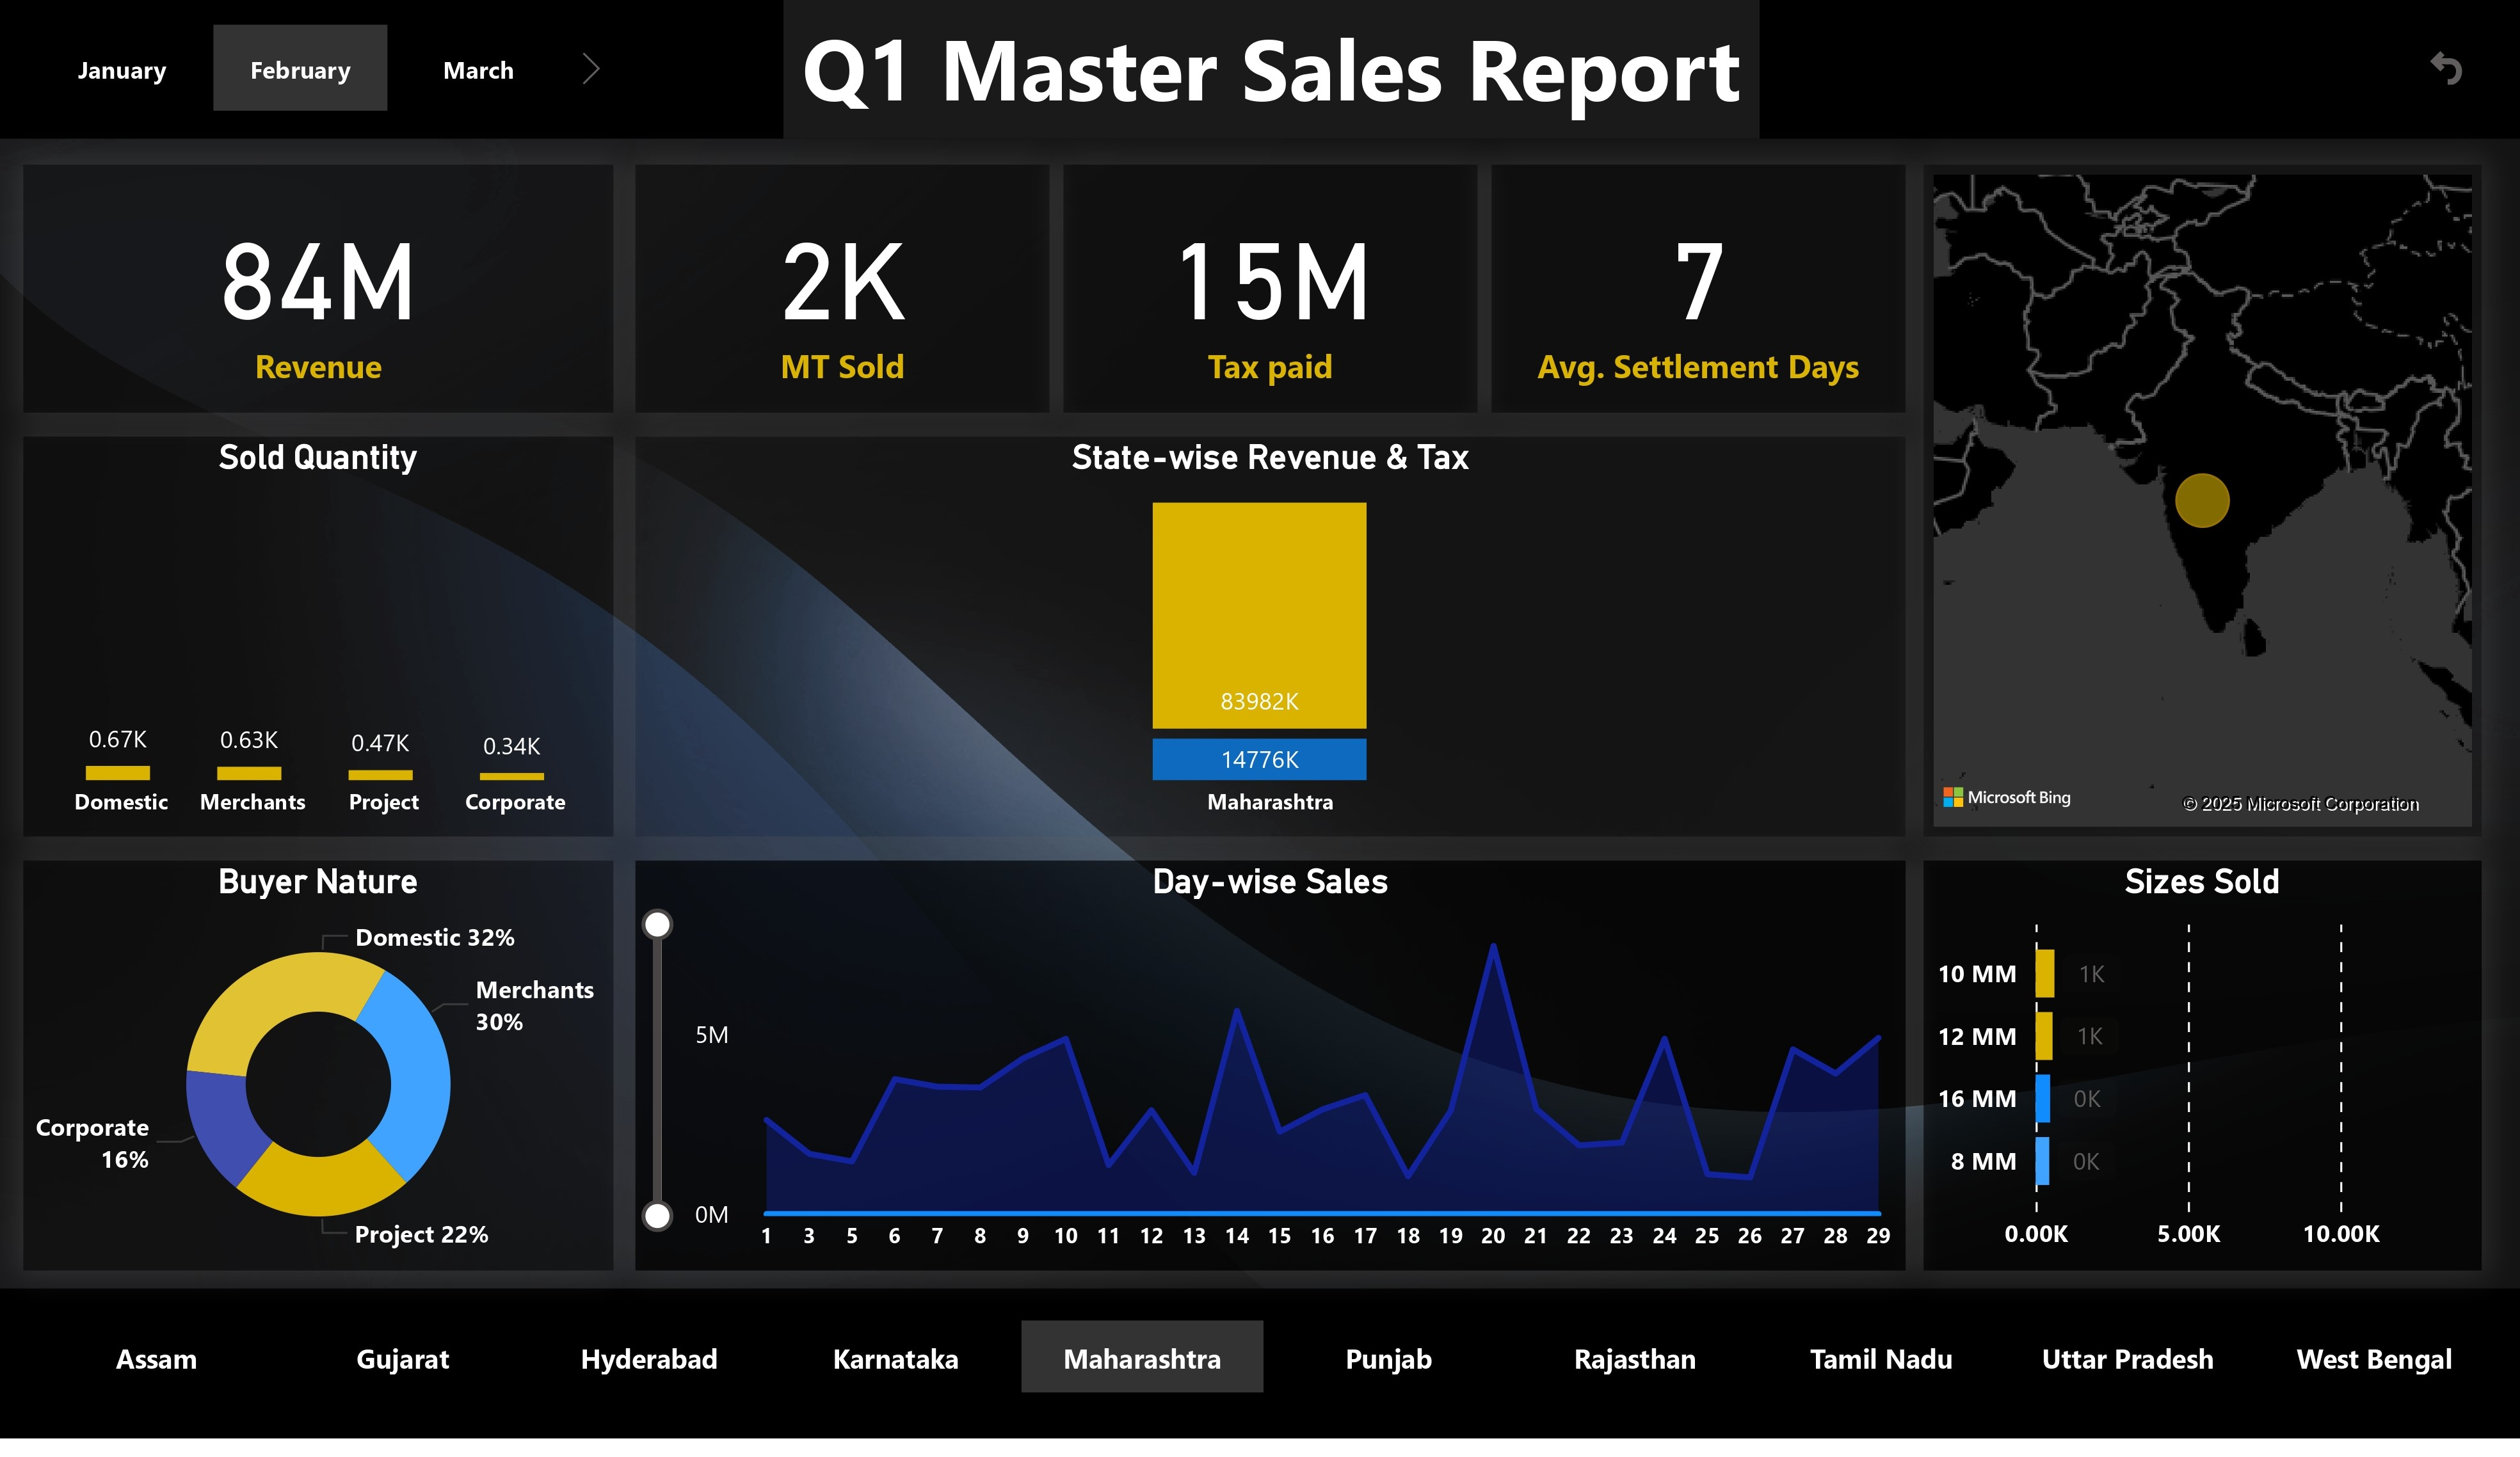

The page's visual inventory and layout, read from the dashboard file:
{"tool":"powerbi","page":{"name":"Page 1","canvas":[1280,720],"ordinal":0},"visuals":[{"type":"shape","box":[0,0,1280,70],"z":0},{"type":"shape","box":[0,645.2,1279.8,75],"z":1000},{"type":"clusteredBarChart","title":"Sizes Sold","fields":{"Category":["Sheet2.Material Size"],"Y":["Sum(Sheet2.Quantity)"]},"box":[970.2,431,278.6,204.8],"z":2000},{"type":"map","fields":{"Category":["Sheet2.States"],"Size":["Divide(Sum(Sheet2.Sales), ScopedEval(Sum(Sheet2.Sales), []))"]},"box":[970,83.3,279.2,335.8],"z":3000},{"type":"slicer","fields":{"Values":["Sheet2.States"]},"box":[0,653.6,1279.8,50],"z":4000},{"type":"donutChart","title":"Buyer Nature","fields":{"Category":["Sheet2.Buyer Nature"],"Y":["Sum(Sheet2.Sales)"]},"box":[20.2,431,295.2,204.8],"z":5000},{"type":"stackedAreaChart","title":"Day-wise Sales","fields":{"Y":["Sum(Sheet2.Quantity)","Sum(Sheet2.Sales)"],"Category":["Sheet2.Document Dt.Variation.Date Hierarchy.Day"]},"box":[326.2,431,634.5,204.8],"z":6000},{"type":"slicer","fields":{"Values":["Sheet2.Document Dt.Variation.Date Hierarchy.Month"]},"box":[0,6.2,315,56.2],"z":7000},{"type":"clusteredColumnChart","title":"Sold Quantity","fields":{"Category":["Sheet2.Buyer Nature"],"Y":["Sum(Sheet2.Quantity)"]},"box":[20.2,219,295.2,200],"z":8000},{"type":"card","fields":{"Values":["Sum(Sheet2.Sales)"]},"box":[20.2,83.3,295.2,123.8],"z":9000},{"type":"card","fields":{"Values":["Sum(Sheet2.Quantity)"]},"box":[326.2,83.3,207.1,123.8],"z":10000},{"type":"card","fields":{"Values":["Sum(Sheet2.GST)"]},"box":[539.9,83.3,207.1,123.8],"z":11000},{"type":"card","fields":{"Values":["Avg(Sheet2.Settlement period)"]},"box":[753.6,83.3,207.1,123.8],"z":12000},{"type":"textbox","box":[400,0,487.5,70],"z":13000},{"type":"hundredPercentStackedColumnChart","title":"State-wise Revenue & Tax","fields":{"Category":["Sheet2.States"],"Y":["Sum(Sheet2.GST)","Sum(Sheet2.Sales)"]},"box":[326.2,218.8,635,200],"z":14000},{"type":"actionButton","box":[1210.7,14.3,46.4,40.5],"z":15000}]}

Visuals, with their boxes in screenshot pixels (x1, y1, x2, y2), scaled from the page's 1280x720 canvas onto the 2520x1457 screenshot:
shape: [0, 0, 2519, 141]
shape: [0, 1305, 2519, 1456]
"Sizes Sold" clusteredBarChart: [1910, 872, 2459, 1287]
map - Sheet2.States x Divide(Sum(Sheet2.Sales), ScopedEval(Sum(Sheet2.Sales), [])): [1910, 168, 2459, 848]
slicer - Sheet2.States: [0, 1323, 2519, 1424]
"Buyer Nature" donutChart: [40, 872, 621, 1287]
"Day-wise Sales" stackedAreaChart: [642, 872, 1891, 1287]
slicer - Sheet2.Document Dt.Variation.Date Hierarchy.Month: [0, 13, 620, 126]
"Sold Quantity" clusteredColumnChart: [40, 443, 621, 848]
card - Sum(Sheet2.Sales): [40, 168, 621, 419]
card - Sum(Sheet2.Quantity): [642, 168, 1050, 419]
card - Sum(Sheet2.GST): [1063, 168, 1471, 419]
card - Avg(Sheet2.Settlement period): [1484, 168, 1891, 419]
textbox: [787, 0, 1747, 141]
"State-wise Revenue & Tax" hundredPercentStackedColumnChart: [642, 443, 1892, 847]
actionButton: [2384, 29, 2475, 111]
